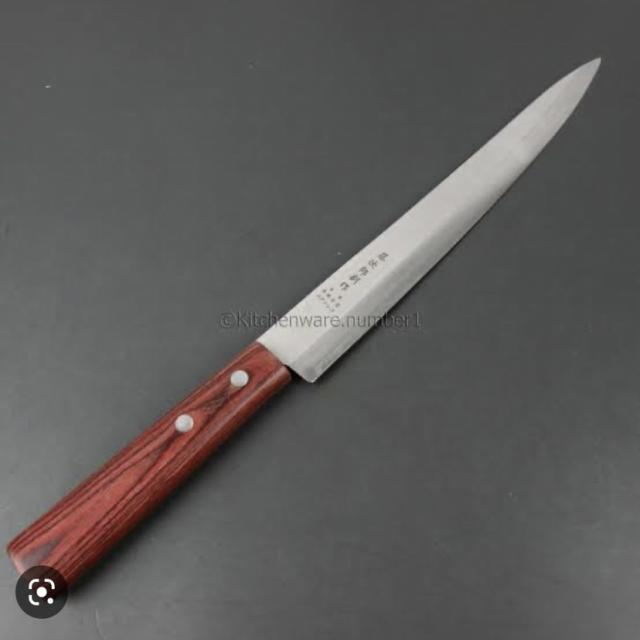Knife: (3, 25, 634, 632)
